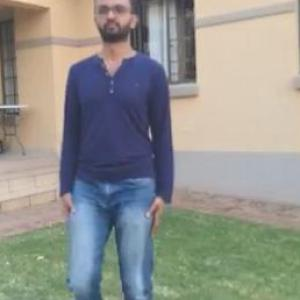follow: (58, 0, 171, 297)
